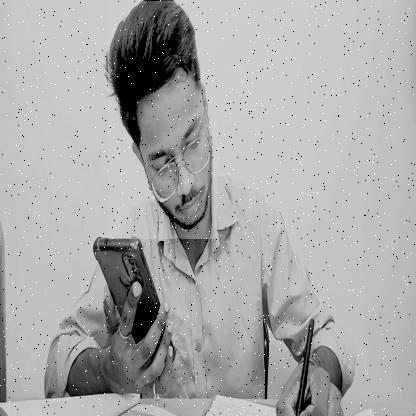Distracted: (108, 1, 217, 239)
